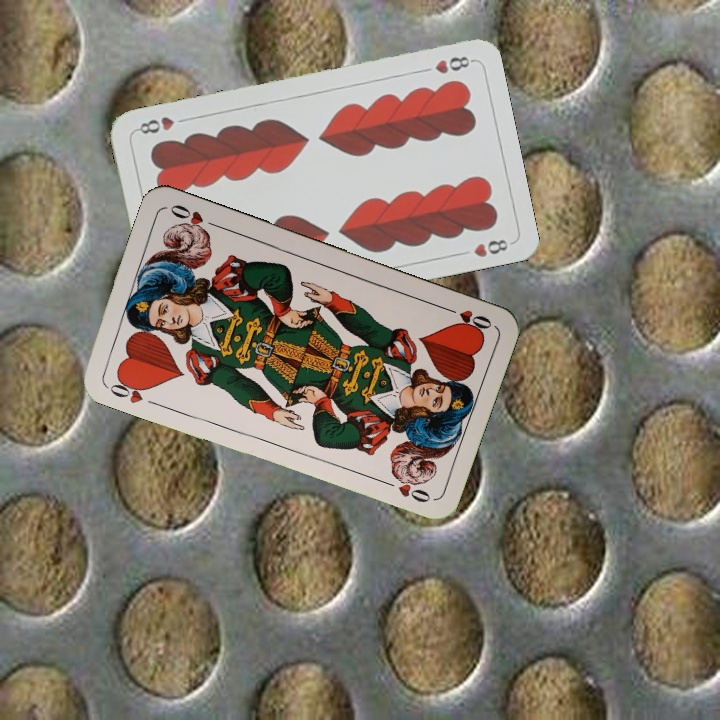H8: (430, 52, 475, 77)
HO: (438, 302, 495, 334), (101, 372, 153, 406)
